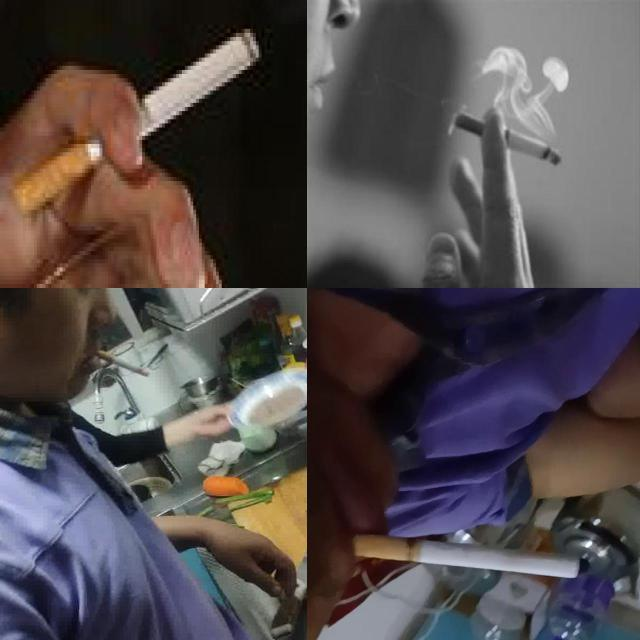smoking: (14, 24, 259, 214), (352, 535, 582, 581), (456, 115, 562, 167), (96, 348, 150, 378)
